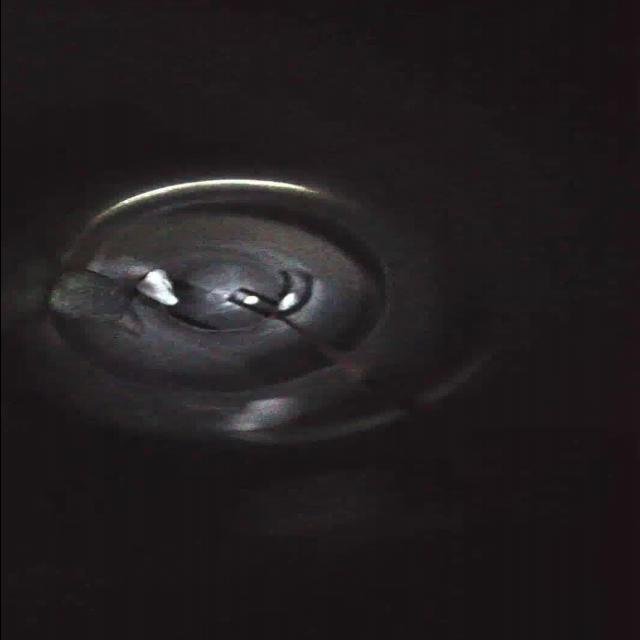impurity: (34, 264, 131, 324), (131, 266, 181, 308)
